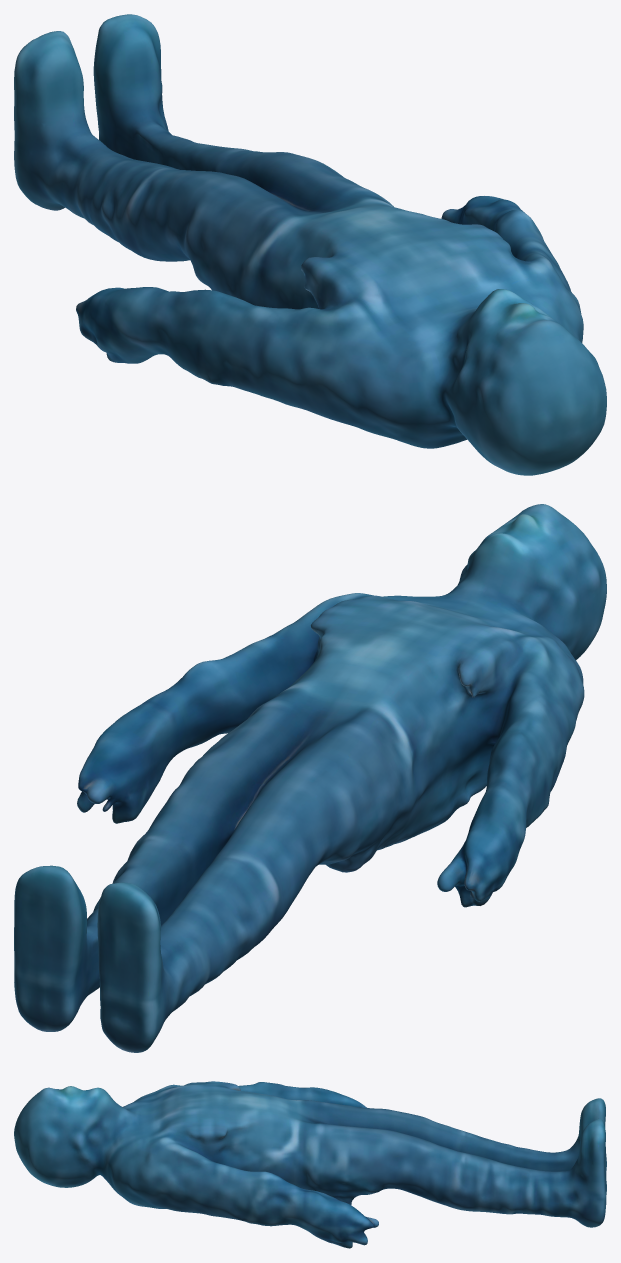
File: 62a0e1712e9f_514d24f0b227_A_lying_human_corps.glb
3 renders of one model, top to bottom at view 1: azimuth 30°, elevation 25°; view 2: azimuth 150°, elevation 25°; view 3: azimuth 270°, elevation 25°, orthographic. The views are drawn at different scales.
Parts seen in each view (by area): view 1: high_poly; view 2: high_poly; view 3: high_poly.
Boxes of the visible parts, <box> form: high_poly: <box>14,14,606,475</box>; high_poly: <box>14,504,606,1052</box>; high_poly: <box>14,1081,606,1248</box>.
Bounding box in the file's own units: 0.4859 × 0.2364 × 1.
Materials: 1 (1 with a texture image).
